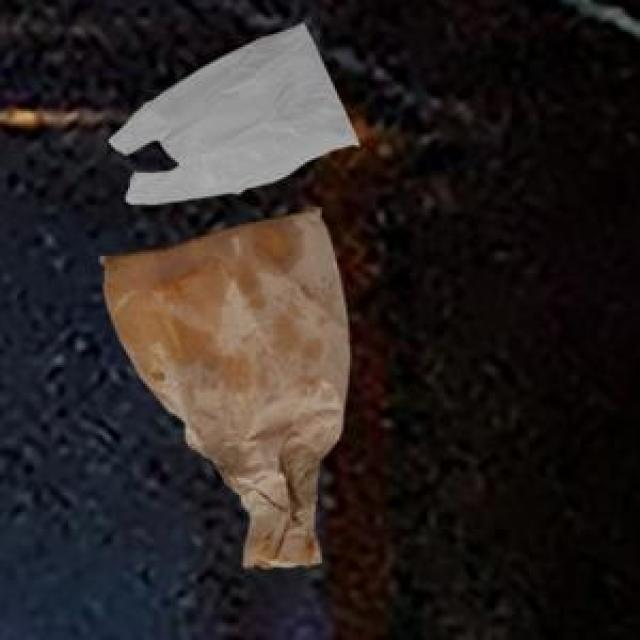paper: (96, 204, 346, 563)
